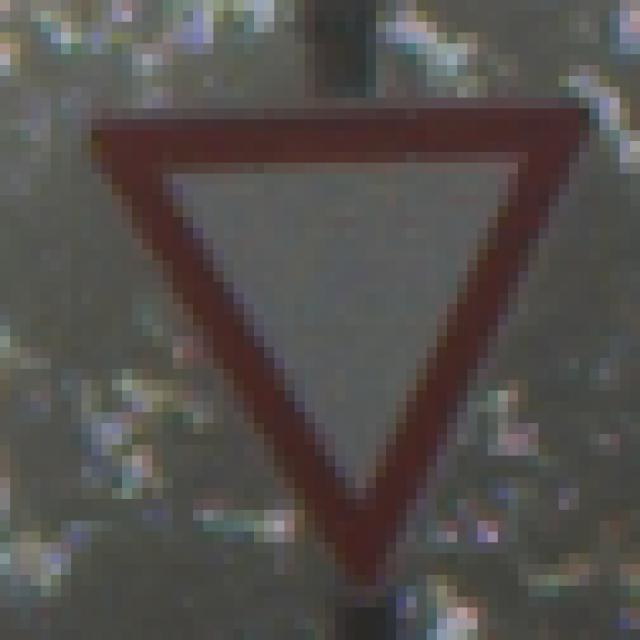Give Way: (62, 66, 580, 576)
